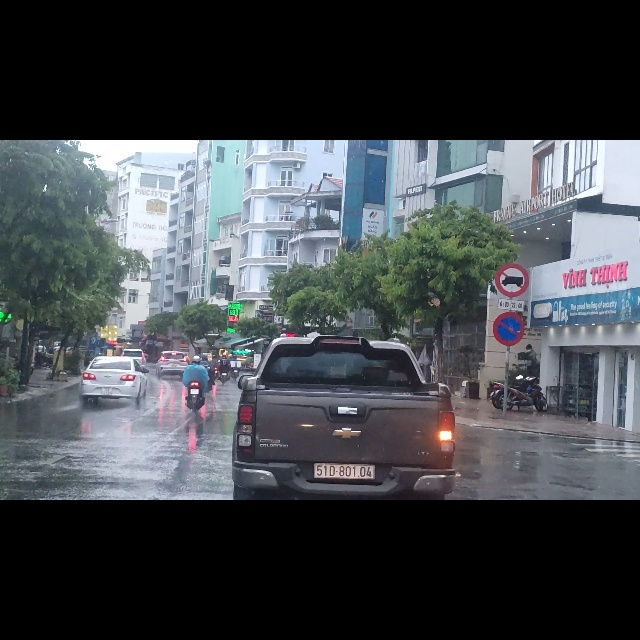bien_cam: (496, 217, 530, 280), (493, 303, 525, 366)
